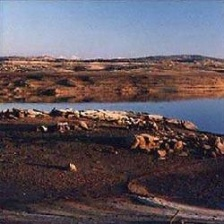neutral: (2, 13, 224, 222)
